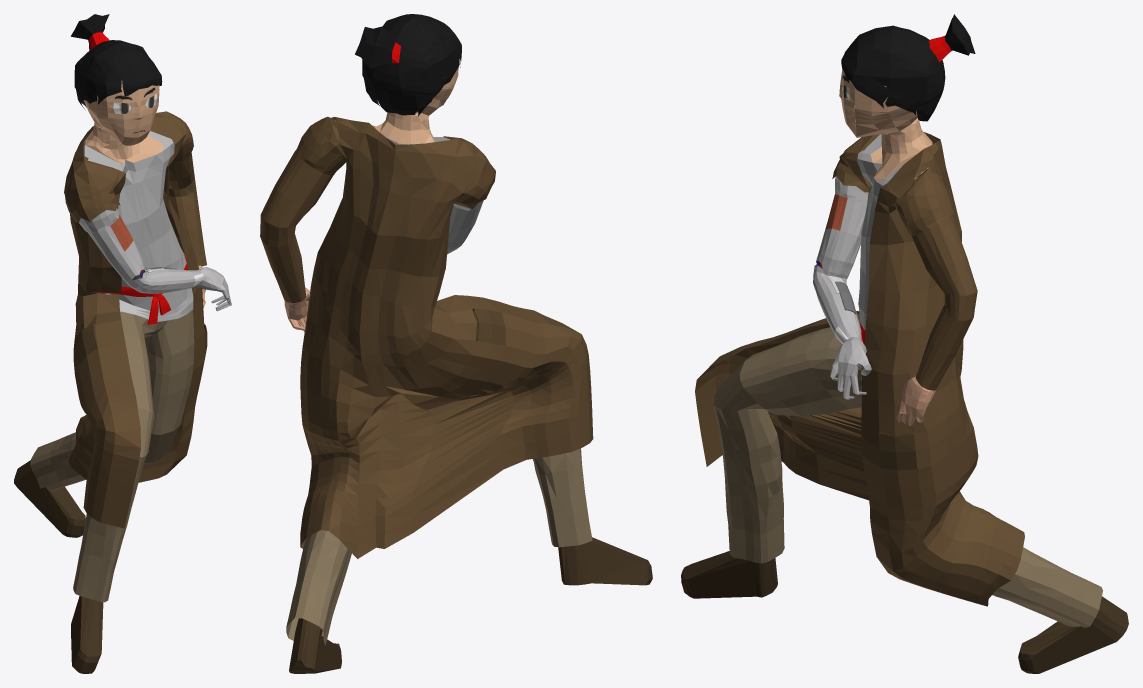
The model's file is One_DL_000005.obj.
The picture shows the model from 3 angles, left to right: view 1: azimuth 30°, elevation 25°; view 2: azimuth 150°, elevation 25°; view 3: azimuth 270°, elevation 25°; orthographic projection. The views are drawn at different scales.
Visible parts, largest first — view 1: Hair_Cube.004; view 2: Hair_Cube.004; view 3: Hair_Cube.004.
Part boxes in pixels (x1=…): Hair_Cube.004: x1=14, y1=14, x2=231, y2=673; Hair_Cube.004: x1=260, y1=14, x2=652, y2=673; Hair_Cube.004: x1=681, y1=14, x2=1128, y2=673.
Size of the model in its own units: 1.55 by 3.49 by 2.19.
